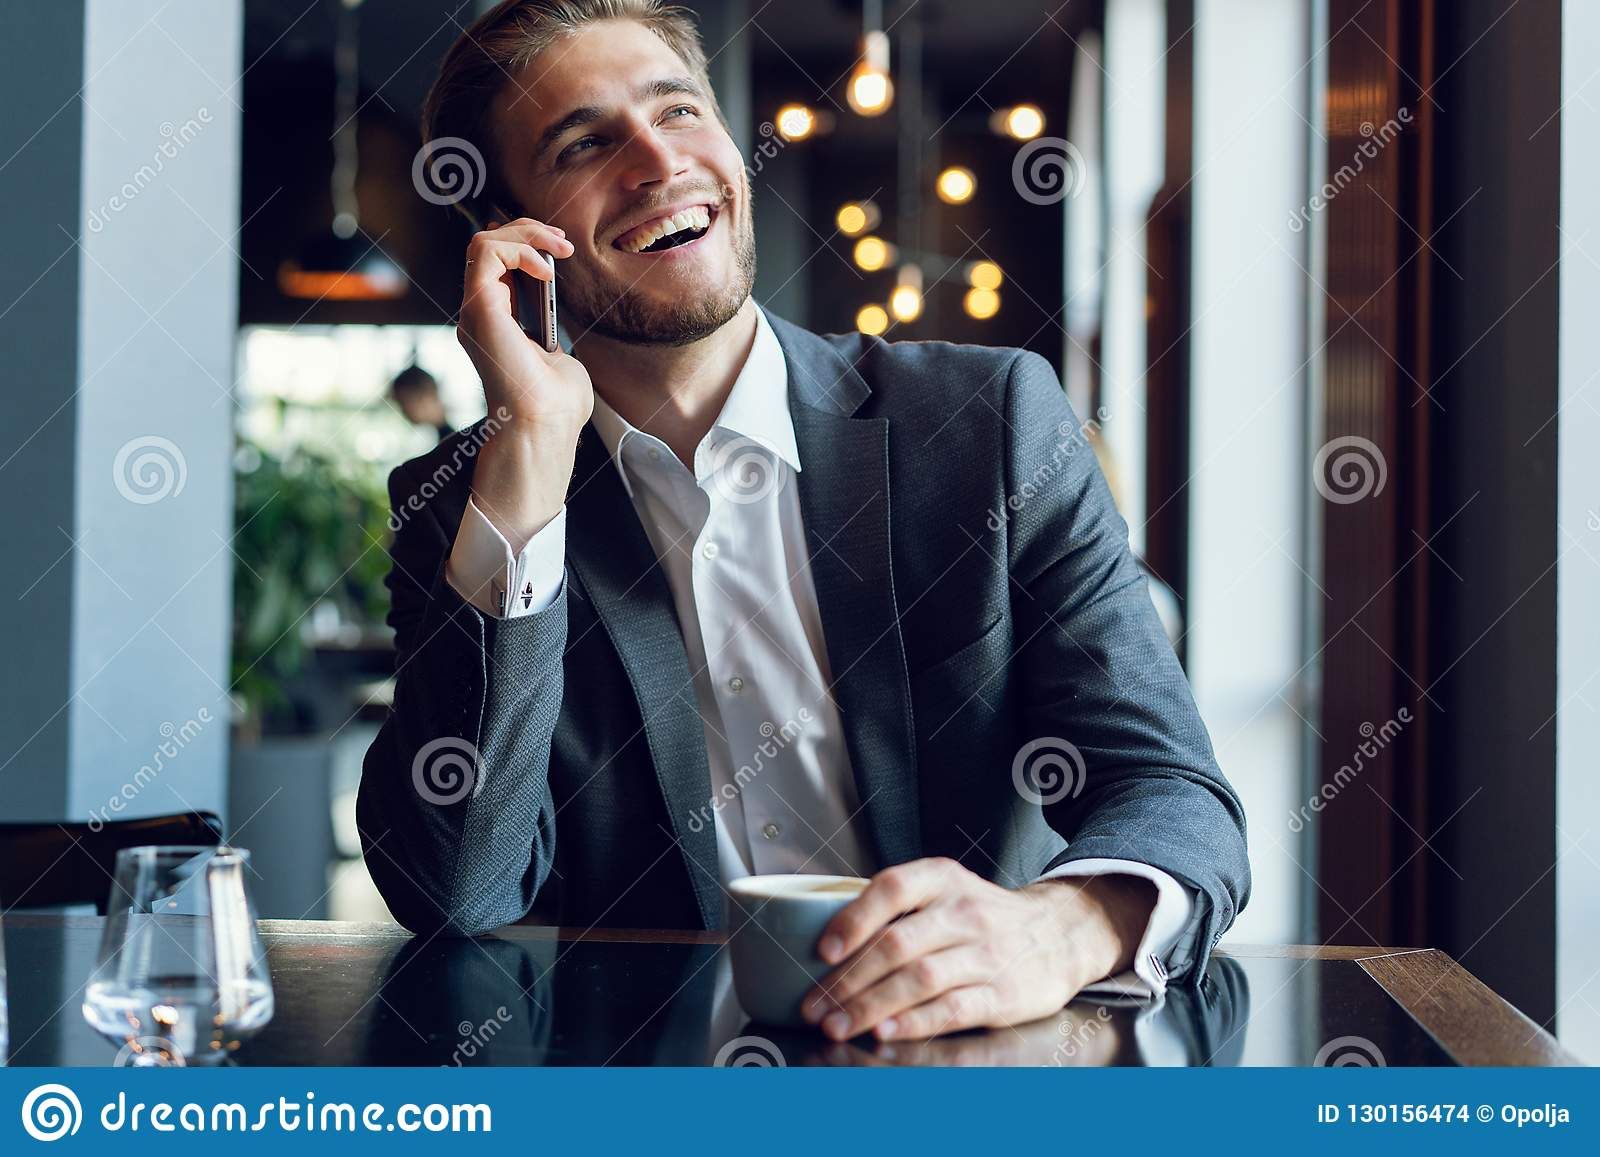phone: (465, 189, 574, 350)
talk: (452, 67, 753, 445)
